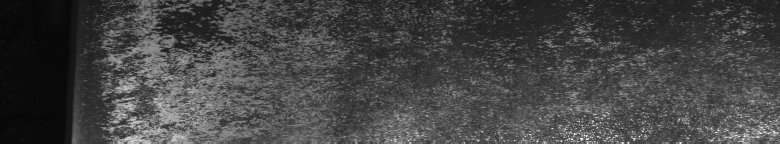kb: (92, 4, 776, 136)
